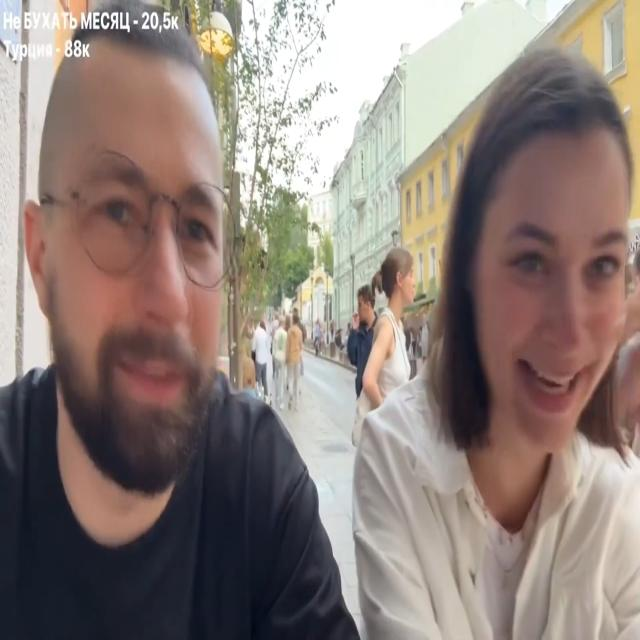Person: (0, 76, 349, 639), (339, 81, 640, 639), (354, 244, 422, 442), (282, 317, 304, 408), (251, 321, 273, 401)
